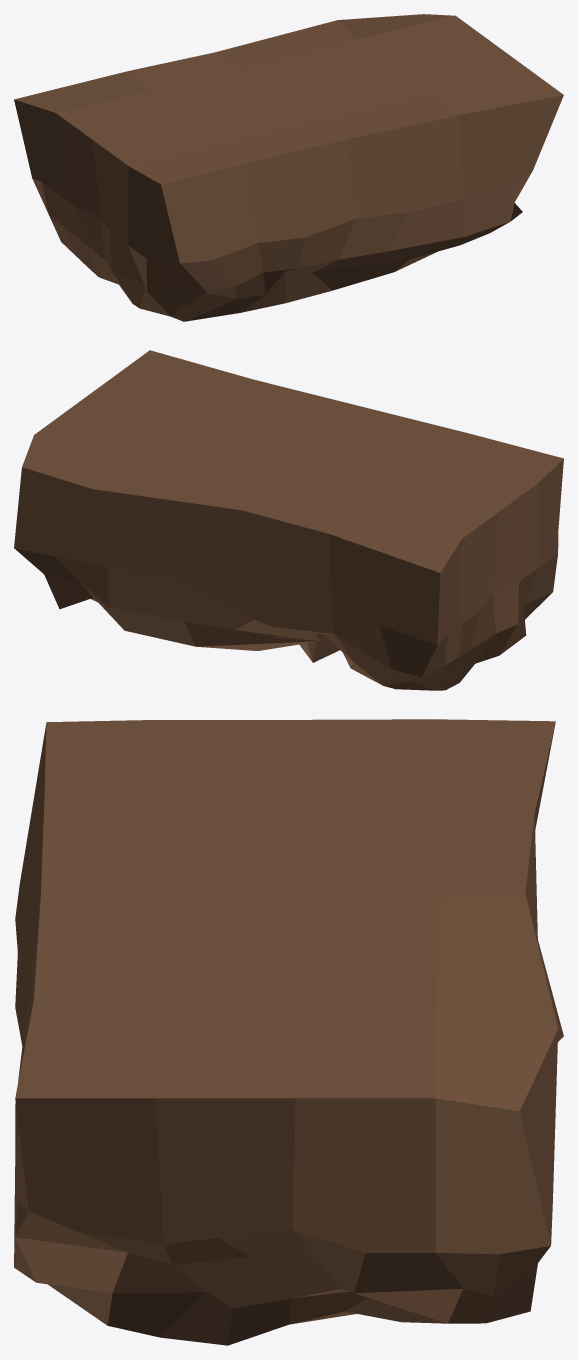
The model's file is platform_cave.fbx.
3 renders of one model, top to bottom at view 1: azimuth 30°, elevation 25°; view 2: azimuth 150°, elevation 25°; view 3: azimuth 270°, elevation 25°, orthographic. The views are drawn at different scales.
Visible parts, largest first — view 1: Cube; view 2: Cube; view 3: Cube.
Part boxes in pixels (<box>): Cube: <box>14,14,563,321</box>; Cube: <box>14,350,563,690</box>; Cube: <box>14,719,563,1345</box>.
Bounding box in the file's own units: 541 × 203 × 323.
